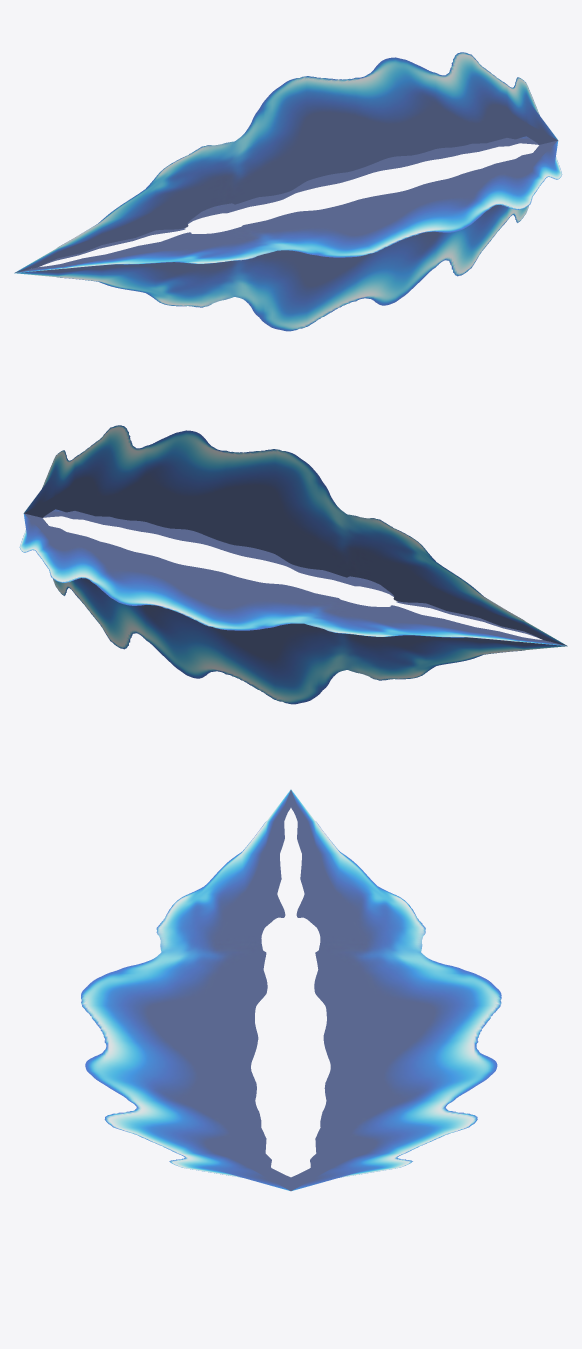
Rendered from lang.FBX.
The picture shows the model from 3 angles, top to bottom: view 1: azimuth 30°, elevation 25°; view 2: azimuth 150°, elevation 25°; view 3: azimuth 270°, elevation 25°; orthographic projection. The views are drawn at different scales.
Parts seen in each view (by area): view 1: Plane001; view 2: Plane001; view 3: Plane001.
Part boxes in pixels (<box>): Plane001: <box>14,52,562,331</box>; Plane001: <box>19,425,567,704</box>; Plane001: <box>81,789,501,1191</box>.
Bounding box in the file's own units: 220 × 128 × 128.
